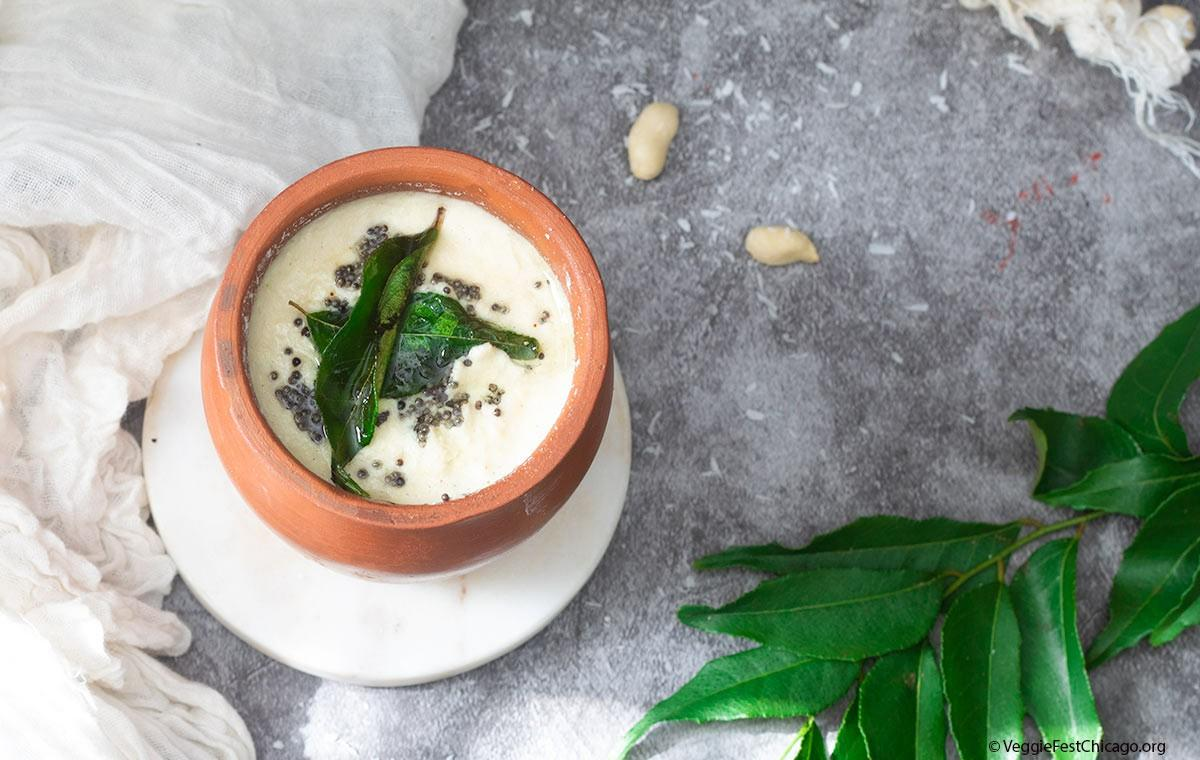CoconutChutney: (245, 189, 574, 507)
